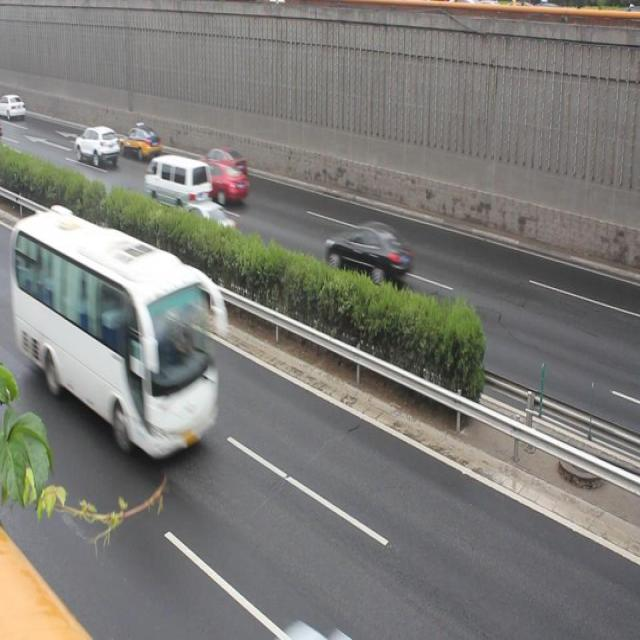car: (323, 219, 412, 287), (177, 194, 237, 249), (73, 121, 121, 169), (203, 156, 248, 205), (120, 119, 159, 163), (201, 140, 245, 175)
truck: (144, 150, 210, 207)
van: (16, 202, 221, 453)
